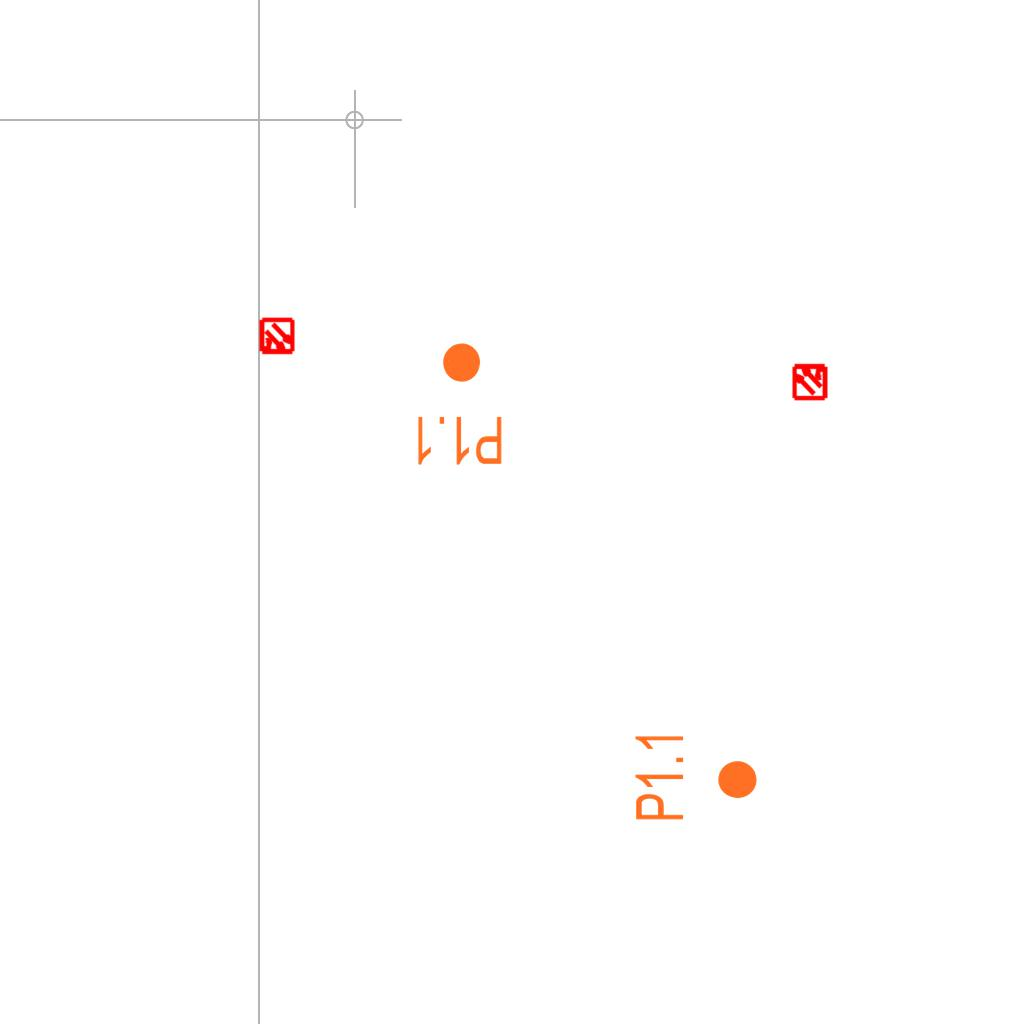Downlight_LED_Einbauleuchten_Flur: (632, 730, 760, 823), (412, 340, 505, 468)
OT_Multisensormelder_(Kombination_RMO_WMD): (249, 309, 305, 365), (782, 353, 838, 409)
